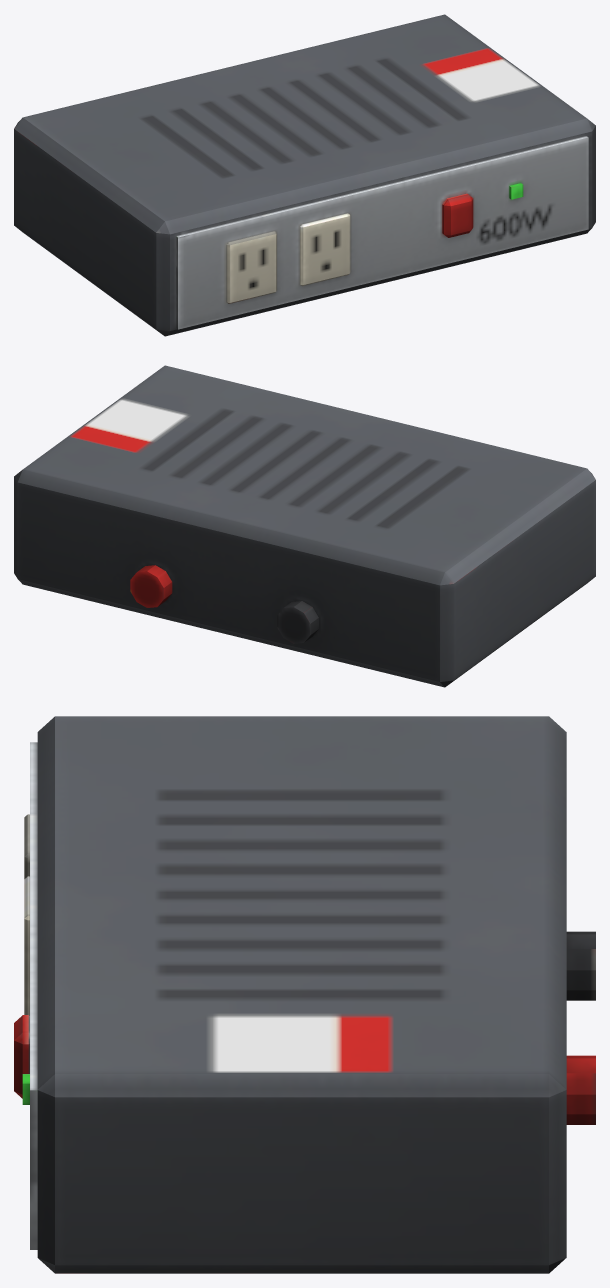
The model's file is RenewableEnergy_PowerInverter.fbx.
The picture shows the model from 3 angles, top to bottom: view 1: azimuth 30°, elevation 25°; view 2: azimuth 150°, elevation 25°; view 3: azimuth 270°, elevation 25°; orthographic projection. The views are drawn at different scales.
Parts seen in each view (by area): view 1: PowerInverter; view 2: PowerInverter; view 3: PowerInverter.
Part boxes in pixels (x1,y1,x2,y2): PowerInverter: (14,14,595,336); PowerInverter: (14,365,595,687); PowerInverter: (14,716,595,1273).
Size of the model in its own units: 0.3 by 0.075 by 0.198.
